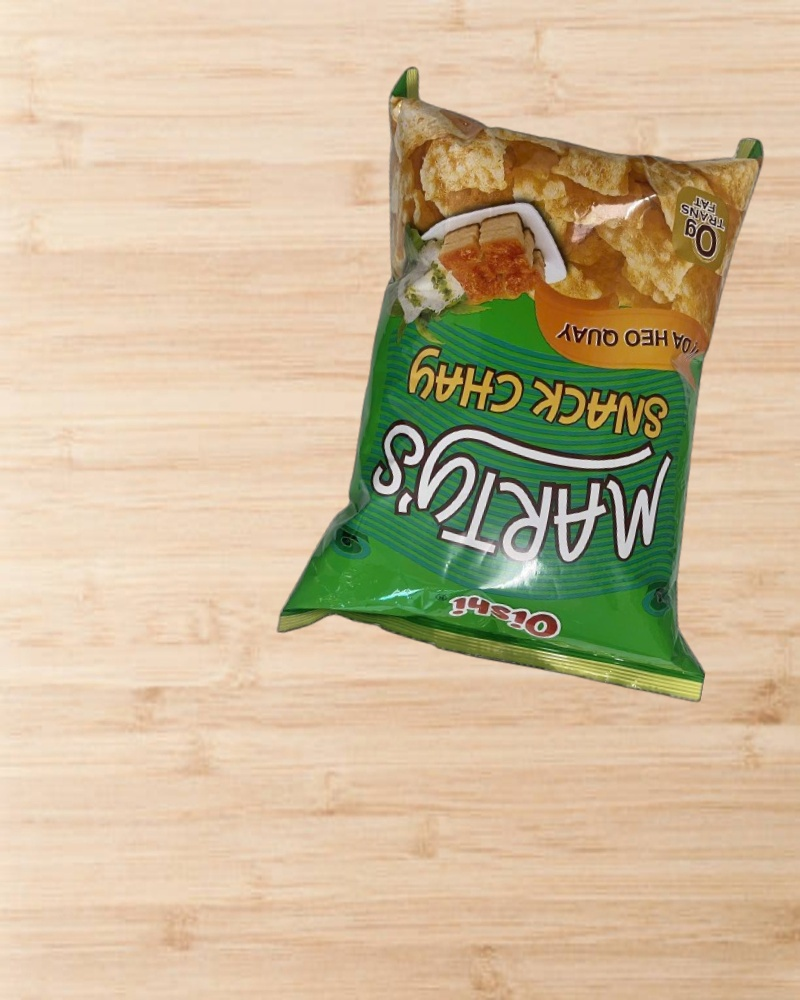Snack chay: (297, 67, 799, 707)
